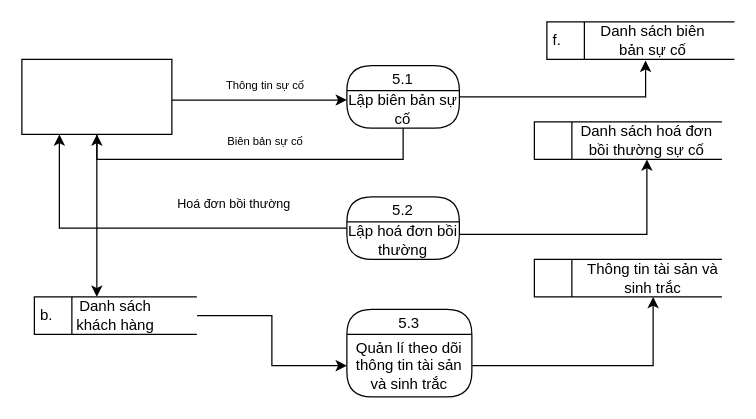
Image size: 756x419. Some labels were removed from this diagram. Each missing label, with the box of its shape:
g.: (533, 121, 722, 159)
k.: (533, 258, 722, 297)
Khách hàng: (21, 58, 172, 134)
